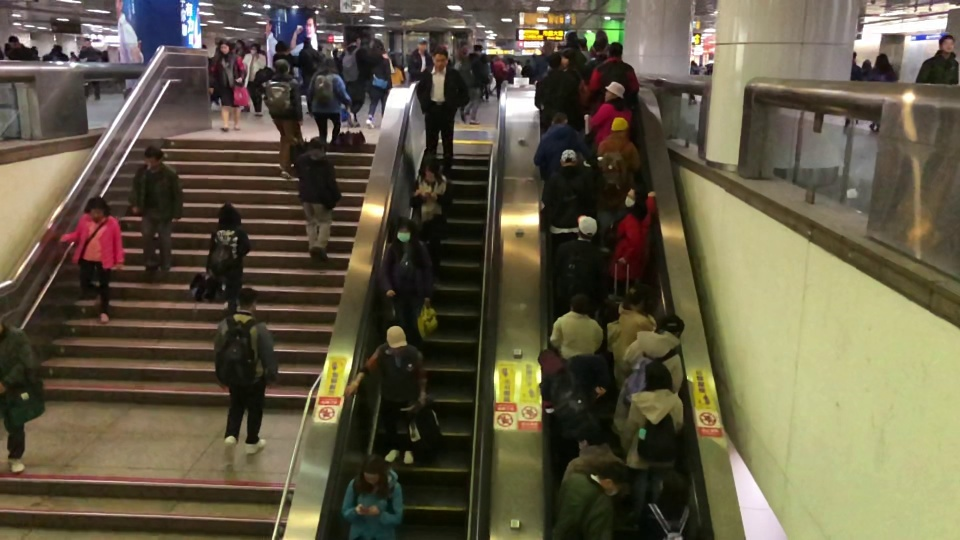person_head: (597, 463, 629, 496), (661, 471, 689, 507), (626, 285, 661, 309), (576, 419, 603, 449), (538, 350, 564, 380), (645, 362, 673, 389), (361, 455, 385, 484), (217, 203, 241, 228), (624, 184, 647, 210), (385, 325, 408, 350), (84, 196, 109, 218), (661, 314, 685, 336), (603, 81, 625, 104), (577, 214, 598, 238), (396, 216, 416, 241), (238, 286, 257, 311), (142, 145, 164, 164), (569, 292, 588, 313), (936, 34, 955, 55), (421, 156, 439, 177), (309, 135, 326, 157), (431, 48, 448, 70), (560, 148, 578, 167), (610, 117, 629, 133), (873, 54, 890, 70), (591, 37, 607, 53), (546, 53, 562, 69), (370, 38, 385, 55), (562, 50, 576, 68), (273, 58, 289, 72), (347, 31, 361, 47), (608, 42, 622, 58), (552, 111, 567, 125), (566, 32, 579, 47), (320, 55, 334, 68), (7, 34, 19, 48), (275, 40, 287, 54), (218, 40, 230, 52), (415, 38, 427, 50), (543, 40, 553, 54), (861, 58, 871, 72), (249, 43, 259, 54), (474, 44, 483, 53), (303, 37, 311, 47), (852, 51, 856, 63), (691, 60, 695, 65)
person_vbox: (344, 324, 427, 465), (212, 287, 278, 455), (610, 313, 684, 452), (620, 361, 683, 523), (61, 196, 126, 322), (126, 144, 184, 274), (416, 47, 470, 178), (538, 351, 608, 447), (595, 116, 642, 252), (0, 324, 41, 475), (381, 216, 432, 333), (295, 135, 341, 264), (553, 462, 629, 540), (606, 285, 662, 390), (340, 455, 405, 539), (607, 184, 656, 286), (263, 58, 303, 180), (411, 156, 449, 278), (541, 148, 590, 241), (306, 54, 352, 153), (205, 202, 251, 301), (554, 213, 605, 296), (638, 469, 697, 539), (559, 419, 624, 482), (533, 110, 587, 179), (550, 291, 603, 361), (209, 39, 245, 131), (339, 30, 370, 129), (534, 53, 580, 119), (586, 81, 632, 145), (588, 42, 639, 98), (365, 37, 392, 128), (914, 33, 960, 86), (868, 54, 897, 133), (462, 44, 488, 125), (241, 42, 267, 117), (298, 39, 321, 117), (845, 49, 860, 127), (407, 37, 433, 76), (8, 34, 30, 61), (688, 59, 698, 106)
